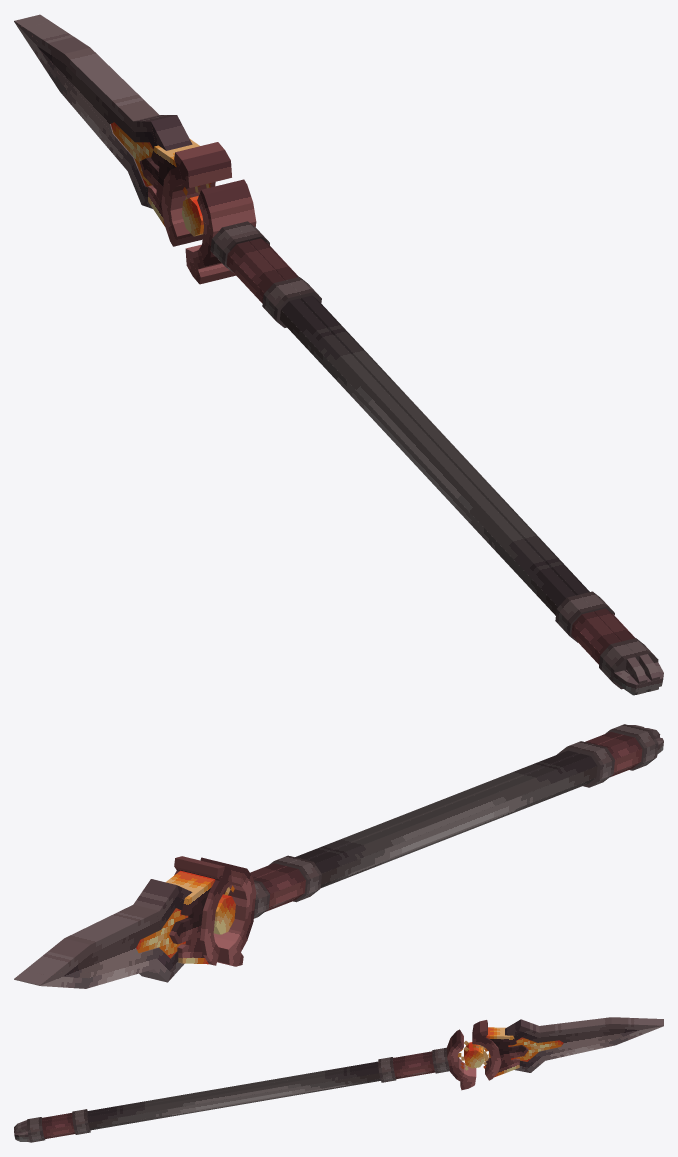
The model's file is meen_spear.glb.
3 views of the same model, one above another, from view 1: azimuth 30°, elevation 25°; view 2: azimuth 150°, elevation 25°; view 3: azimuth 270°, elevation 25° (orthographic). The views are drawn at different scales.
Visible parts, largest first — view 1: off__Tool_L, main__Tool_R; view 2: off__Tool_L, main__Tool_R; view 3: main__Tool_R, off__Tool_L.
Boxes of the visible parts, x1,y1,x2,y2 form: off__Tool_L: (14, 18, 649, 695); main__Tool_R: (27, 14, 663, 692); off__Tool_L: (27, 727, 663, 988); main__Tool_R: (14, 724, 644, 982); main__Tool_R: (14, 1020, 663, 1142); off__Tool_L: (14, 1017, 663, 1131).
Size of the model in its own units: 0.1822 by 0.8973 by 4.44.
1 material, 1 textured.
